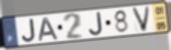2: (63, 12, 85, 41)
8: (114, 9, 130, 34)
A: (39, 16, 60, 42)
J: (20, 17, 37, 43), (88, 11, 104, 37)
V: (130, 5, 152, 34)
